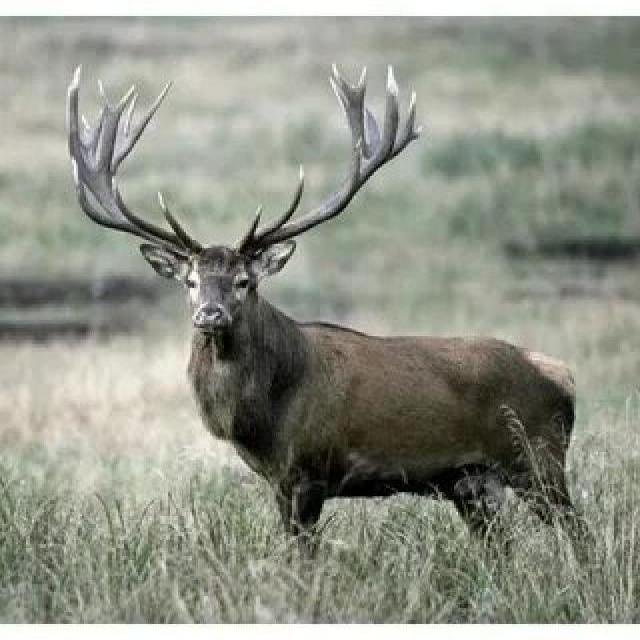deer: (121, 128, 640, 608)
